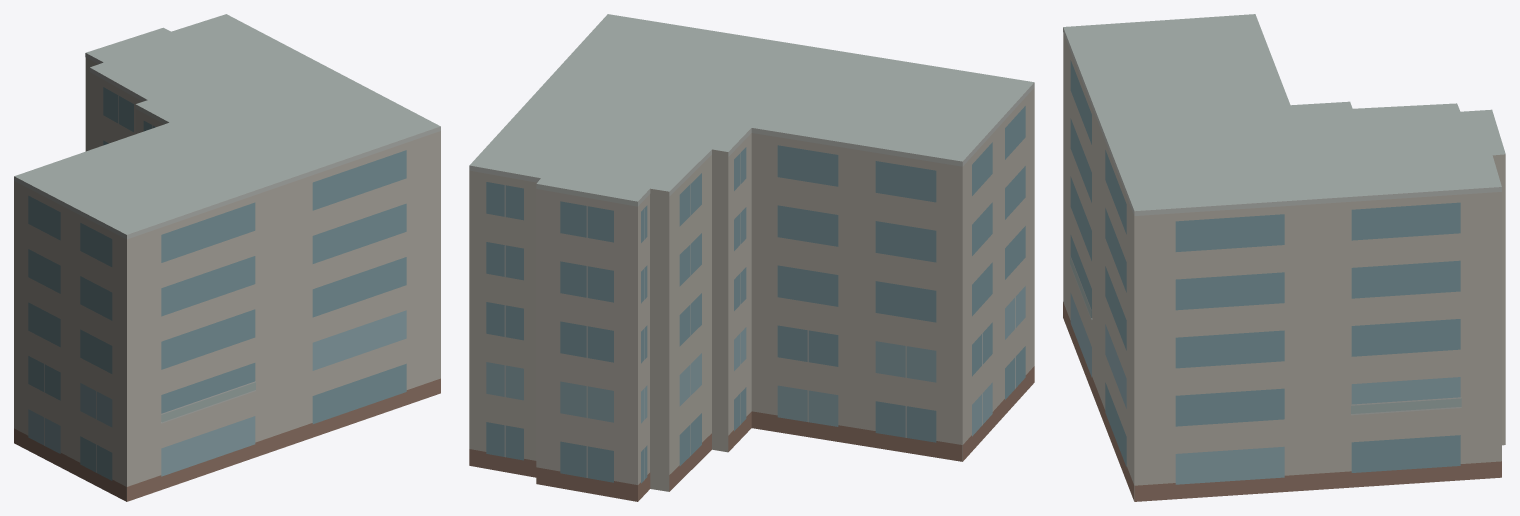
File: survey-upis-32718174.glb
3 views of the same model, side by side, from view 1: azimuth 30°, elevation 25°; view 2: azimuth 150°, elevation 25°; view 3: azimuth 270°, elevation 25° (orthographic). The views are drawn at different scales.
Visible parts, largest first — view 1: survey-upis-32718174.tmp; view 2: survey-upis-32718174.tmp; view 3: survey-upis-32718174.tmp.
Part boxes in pixels (<box>): survey-upis-32718174.tmp: <box>14,14,440,501</box>; survey-upis-32718174.tmp: <box>469,14,1034,501</box>; survey-upis-32718174.tmp: <box>1063,14,1505,501</box>.
Bounding box in the file's own units: 20.96 × 14.4 × 19.88.
